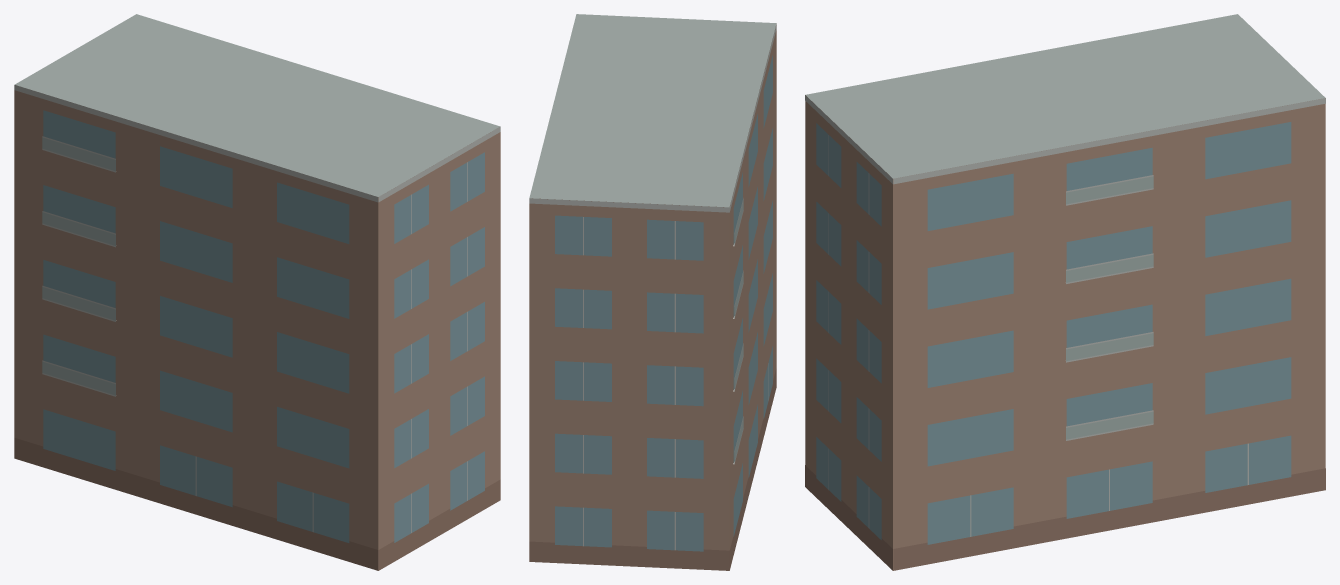
Rendered from survey-upis-32678625.glb.
3 views of the same model, side by side, from view 1: azimuth 30°, elevation 25°; view 2: azimuth 150°, elevation 25°; view 3: azimuth 270°, elevation 25° (orthographic). The views are drawn at different scales.
Parts seen in each view (by area): view 1: survey-upis-32678625.tmp; view 2: survey-upis-32678625.tmp; view 3: survey-upis-32678625.tmp.
Part boxes in pixels (bbox=[...]): survey-upis-32678625.tmp: bbox=[14, 14, 500, 570]; survey-upis-32678625.tmp: bbox=[529, 14, 776, 570]; survey-upis-32678625.tmp: bbox=[805, 14, 1325, 570].
Size of the model in its own units: 15.15 by 16.8 by 20.22.
